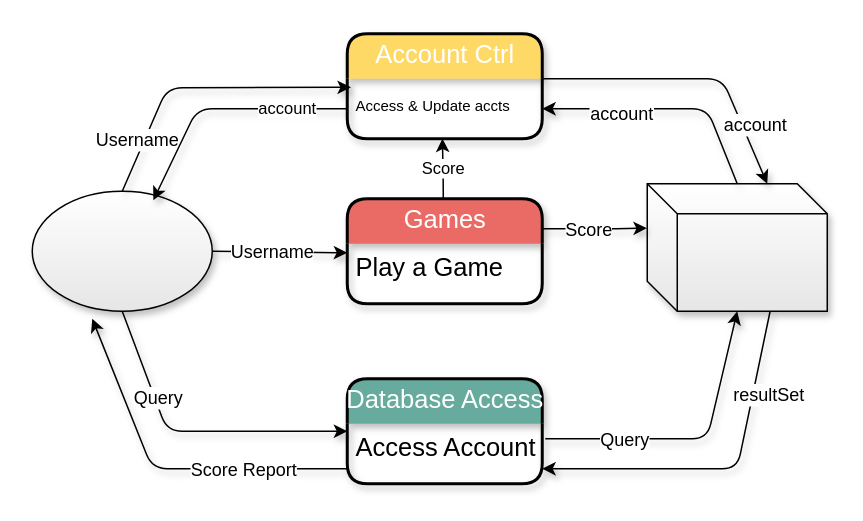
The diagram is 863 pixels wide and 521 high, and some of its shapes have lost their labels. Each missing label, with the centre of its shape:
".....LEADERBOARD & PLAYER DATABASE" goes at (738,249).
"Player" goes at (123,253).
